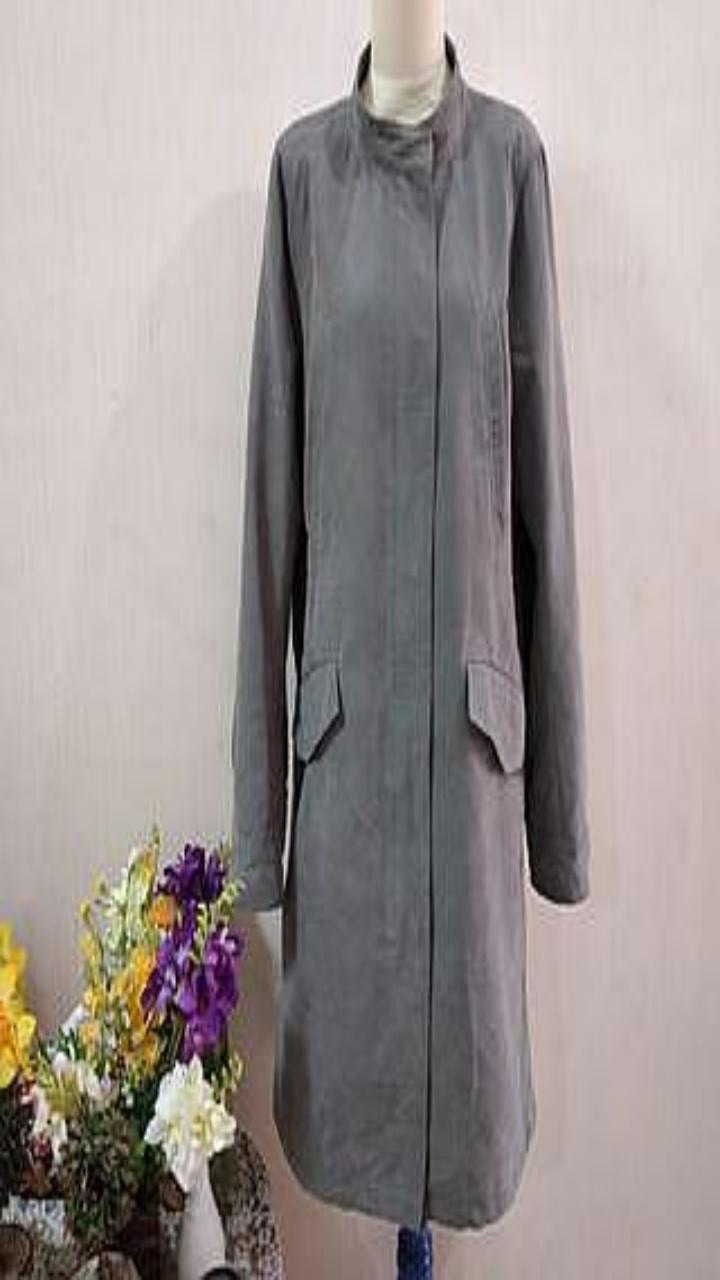Coat: (232, 33, 588, 1227)
